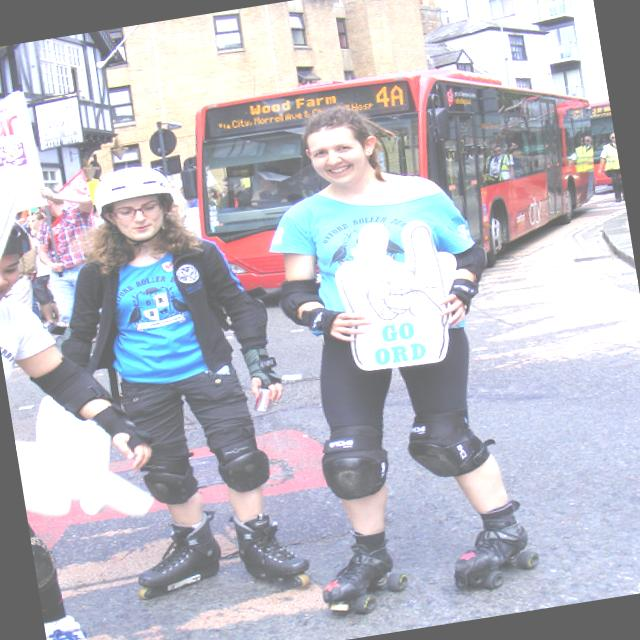Vehicle: (182, 34, 611, 306)
